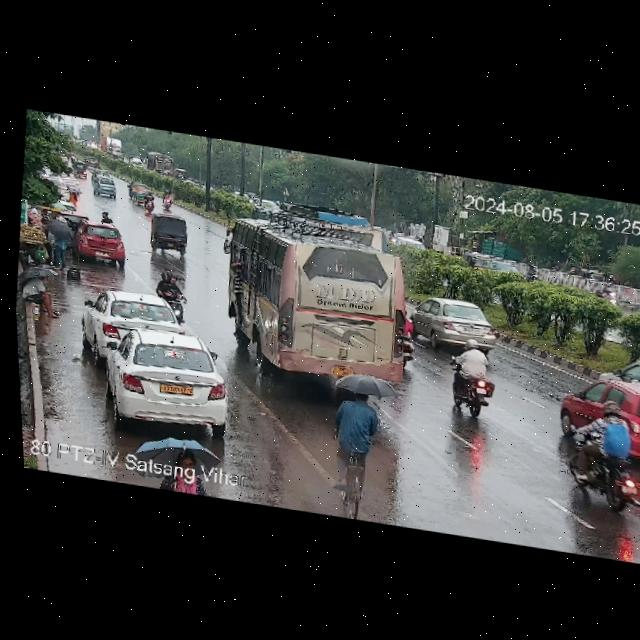bus: (216, 214, 407, 388)
car: (96, 319, 234, 432), (77, 282, 189, 361), (573, 350, 640, 448), (402, 292, 502, 355), (64, 220, 125, 266), (598, 348, 640, 394), (147, 213, 192, 252), (464, 251, 500, 274), (128, 182, 151, 203)
motorcycle: (565, 401, 640, 515), (320, 385, 381, 518), (447, 338, 496, 419), (150, 265, 193, 326), (158, 192, 177, 212)
person: (15, 268, 67, 321)
truck: (145, 150, 177, 179), (95, 135, 126, 159)
